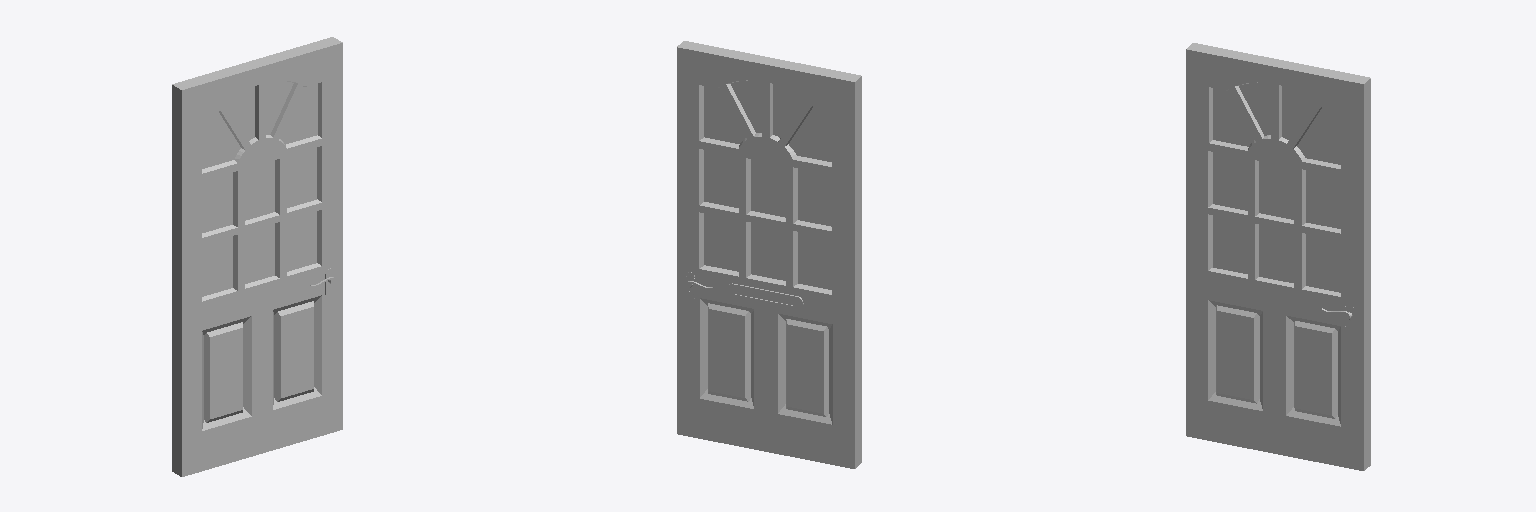
Rendered from door2_000004.obj.
3 renders of one model, left to right at view 1: azimuth 30°, elevation 25°; view 2: azimuth 150°, elevation 25°; view 3: azimuth 330°, elevation 25°, orthographic.
Visible parts, largest first — view 1: Door.000_Door.004; view 2: Door.000_Door.004; view 3: Door.000_Door.004.
Part boxes in pixels (bbox=[...]): Door.000_Door.004: bbox=[172, 37, 342, 476]; Door.000_Door.004: bbox=[677, 41, 861, 468]; Door.000_Door.004: bbox=[1186, 43, 1370, 470].
Bounding box in the file's own units: 0.7423 × 1.6 × 0.1509.